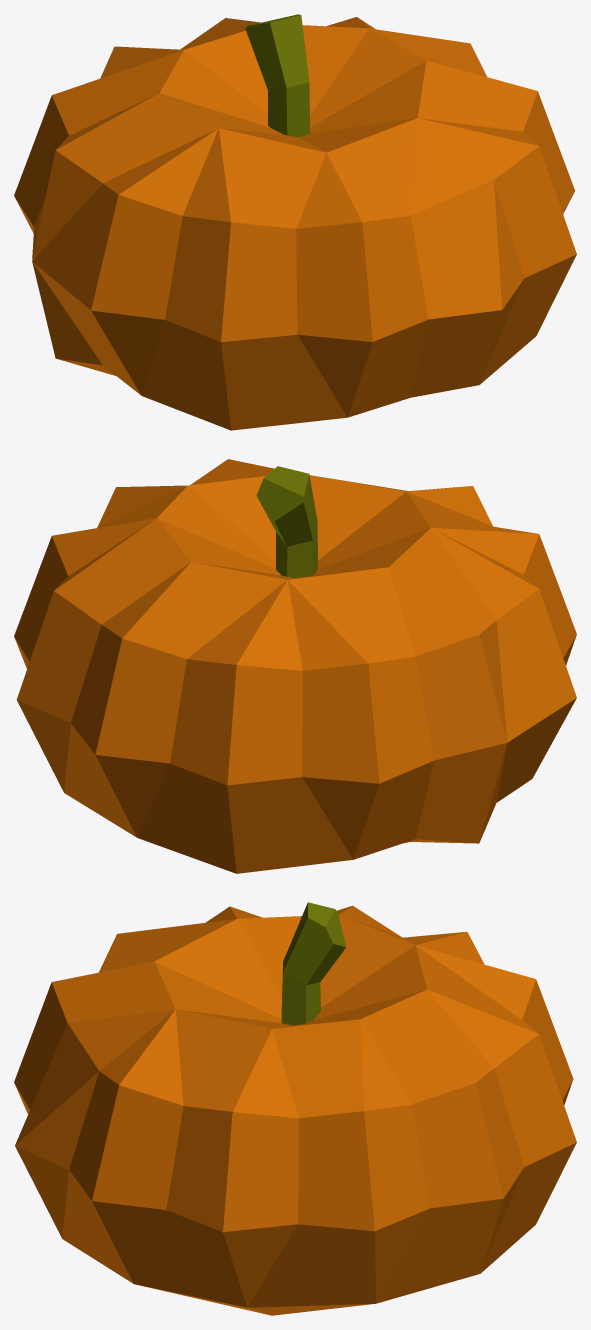
File: Pumpkin.glb
3 renders of one model, top to bottom at view 1: azimuth 30°, elevation 25°; view 2: azimuth 150°, elevation 25°; view 3: azimuth 270°, elevation 25°, orthographic.
Visible parts, largest first — view 1: Pumpkin; view 2: Pumpkin; view 3: Pumpkin.
Part boxes in pixels (box(x1,y1,x2,y2)): Pumpkin: box(14, 14, 576, 430); Pumpkin: box(14, 459, 576, 873); Pumpkin: box(14, 902, 576, 1315).
Size of the model in its own units: 0.2491 by 0.1696 by 0.2496.
